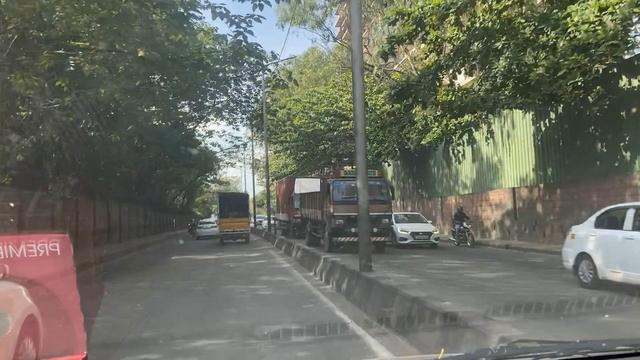HMV: (291, 156, 404, 249), (215, 183, 256, 249)
